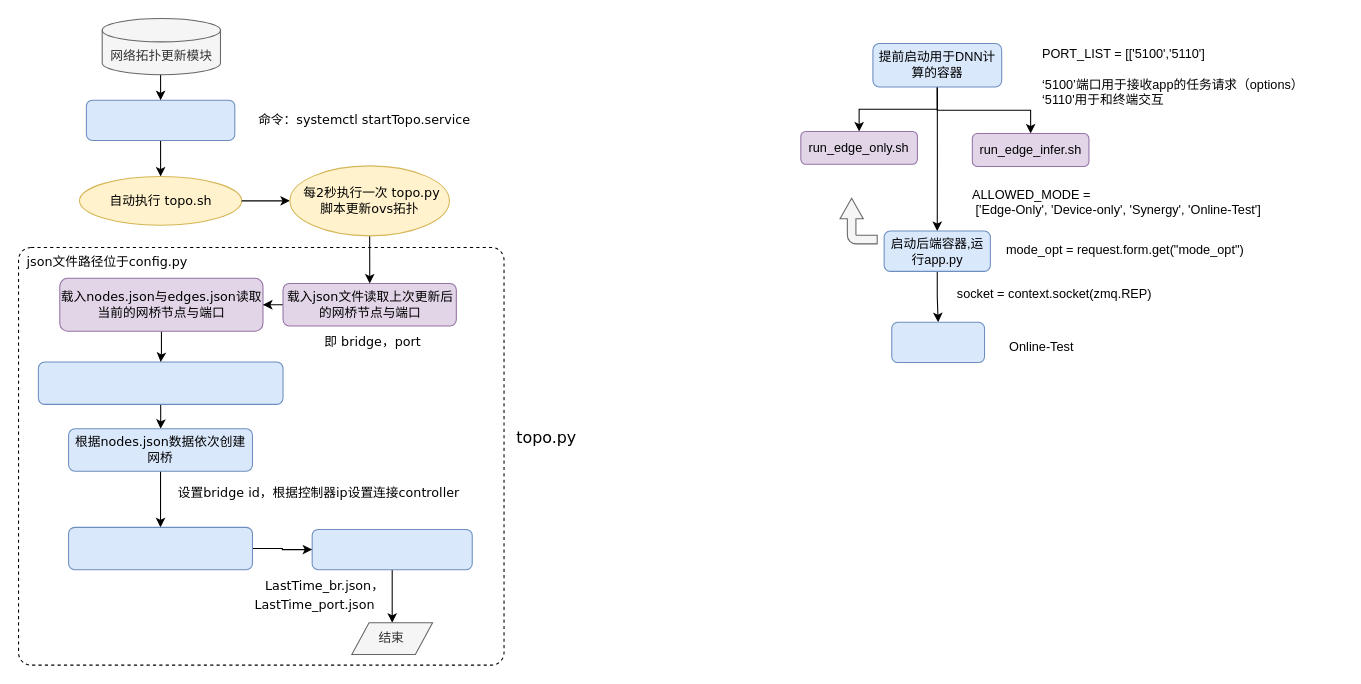
Some shapes in this 1361 by 684 pixel diagram are drawn without their labels. The shapes that lost their labels are listed below. From the top down, each one's centre as x and y in pixels, then its label:
[160,119]: 启动服务 startTopo.service
[938,342]: Classifier()
[160,382]: init(), init_port()，初始化操作，删除更新后不再存在的网桥与之前的端口
[160,548]: 根据 edges.json数据依次创建相应端口与网桥连接
[391,549]: 同时记录当前节点与端口，写入json文件
